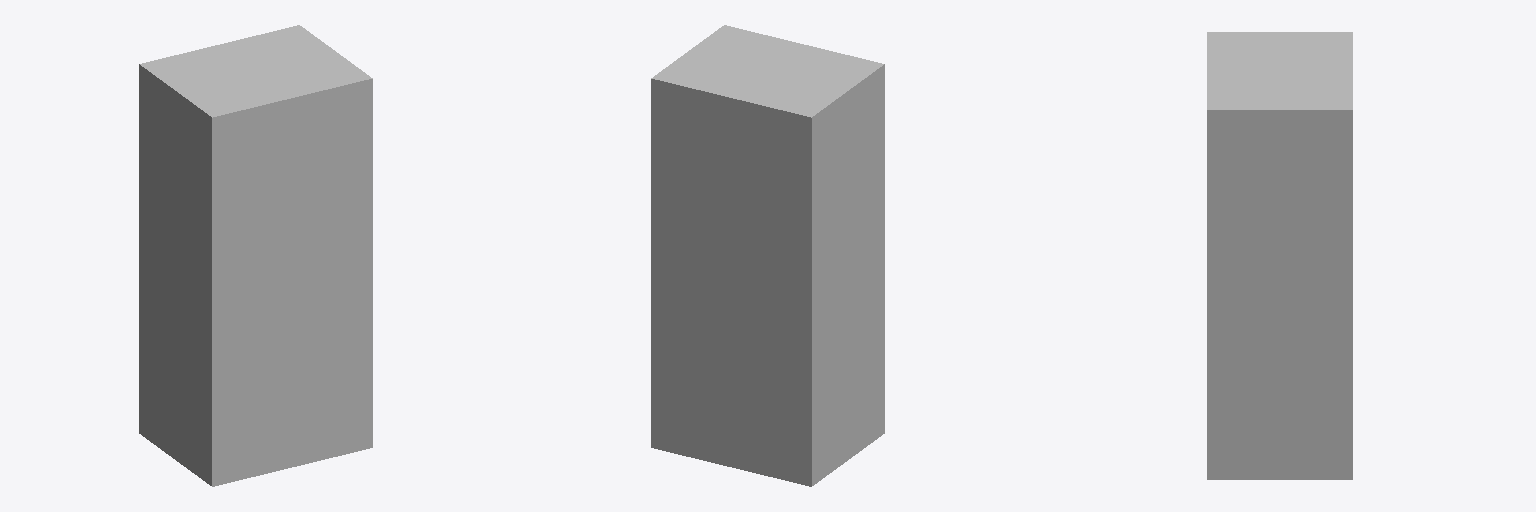
Rendered from GhoulBox.obj.
3 views of the same model, side by side, from view 1: azimuth 30°, elevation 25°; view 2: azimuth 150°, elevation 25°; view 3: azimuth 270°, elevation 25° (orthographic).
Parts seen in each view (by area): view 1: Big_Cube_Cube.004, Cube_Cube.005; view 2: Big_Cube_Cube.004, Cube_Cube.005; view 3: Big_Cube_Cube.004, Cube_Cube.005.
Part boxes in pixels (left/top/right/bottom): Big_Cube_Cube.004: left=139, top=67, right=372, bottom=486; Cube_Cube.005: left=139, top=25, right=372, bottom=486; Big_Cube_Cube.004: left=651, top=67, right=884, bottom=486; Cube_Cube.005: left=651, top=25, right=884, bottom=485; Big_Cube_Cube.004: left=1207, top=113, right=1352, bottom=479; Cube_Cube.005: left=1207, top=32, right=1352, bottom=479.
Bounding box in the file's own units: 1.01 × 2.23 × 0.799.